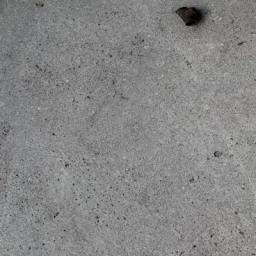FOD: (172, 5, 206, 30)
